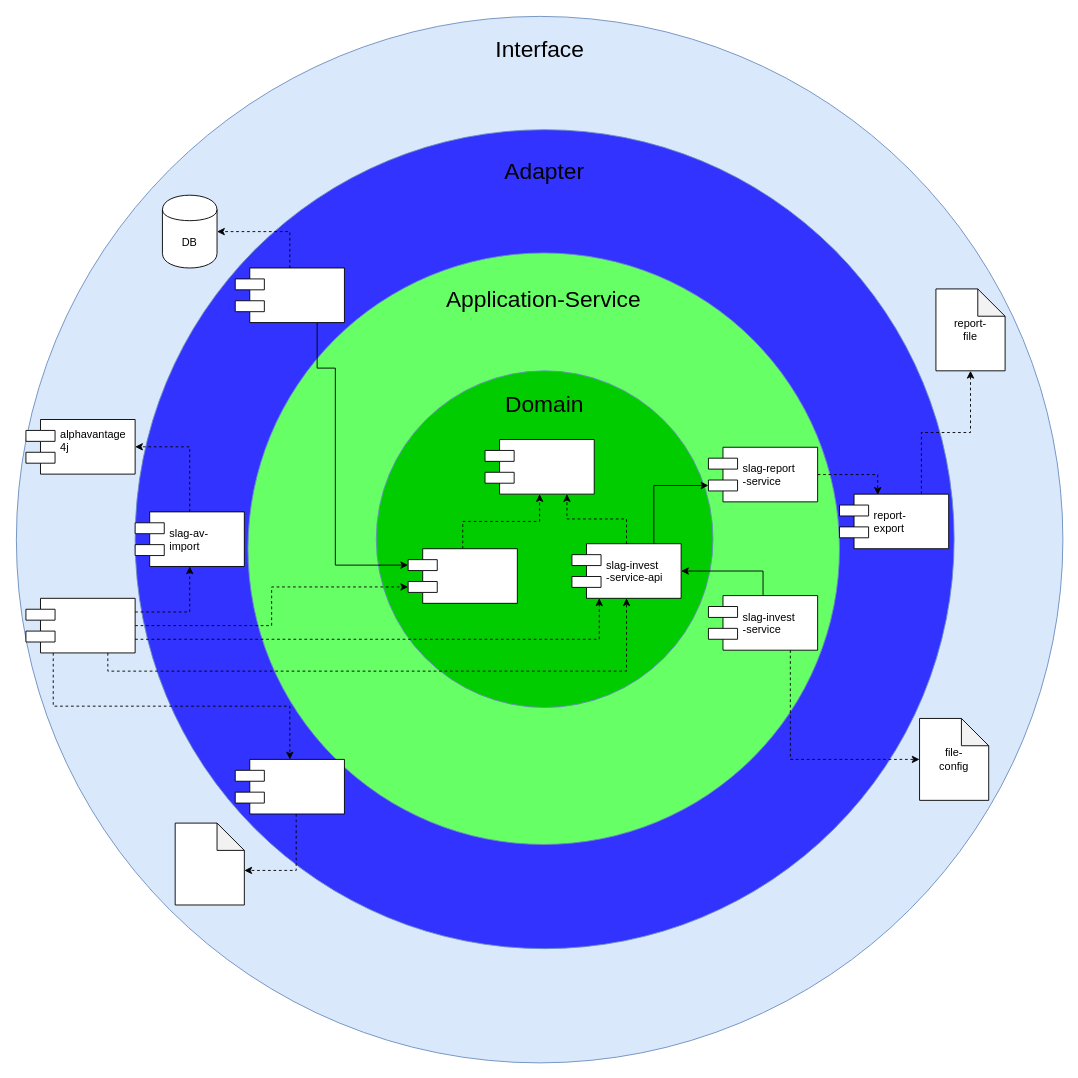
Image size: 1078x1078. Some labels were removed from this diagram. The shapes that lost their labels are listed below. From the top down, each one's centre as x and y in pixels, then its label:
At pixel 289 295: "slag-invest -data".
At pixel 539 466: "slag-invest -model".
At pixel 462 575: "slag-invest -repository".
At pixel 80 625: "slag- invest-cli".
At pixel 289 786: "slag- invest-file- import".
At pixel 209 863: "file-cache".
